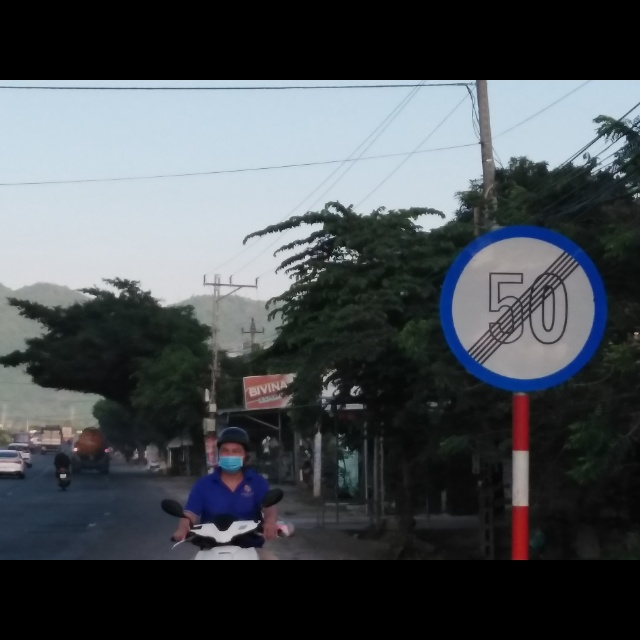Hết hạn chế tốc độ tối đa 50km/h: (433, 222, 605, 396)
